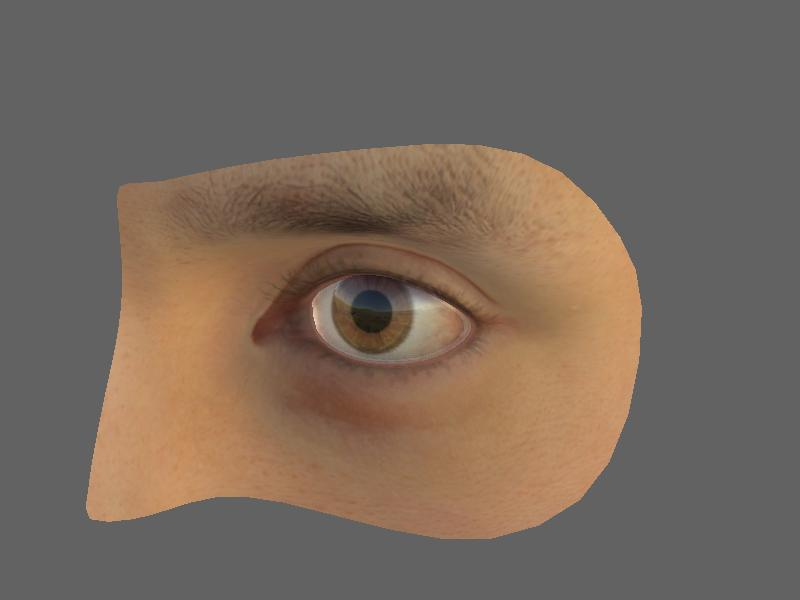iris: (331, 274, 416, 357)
